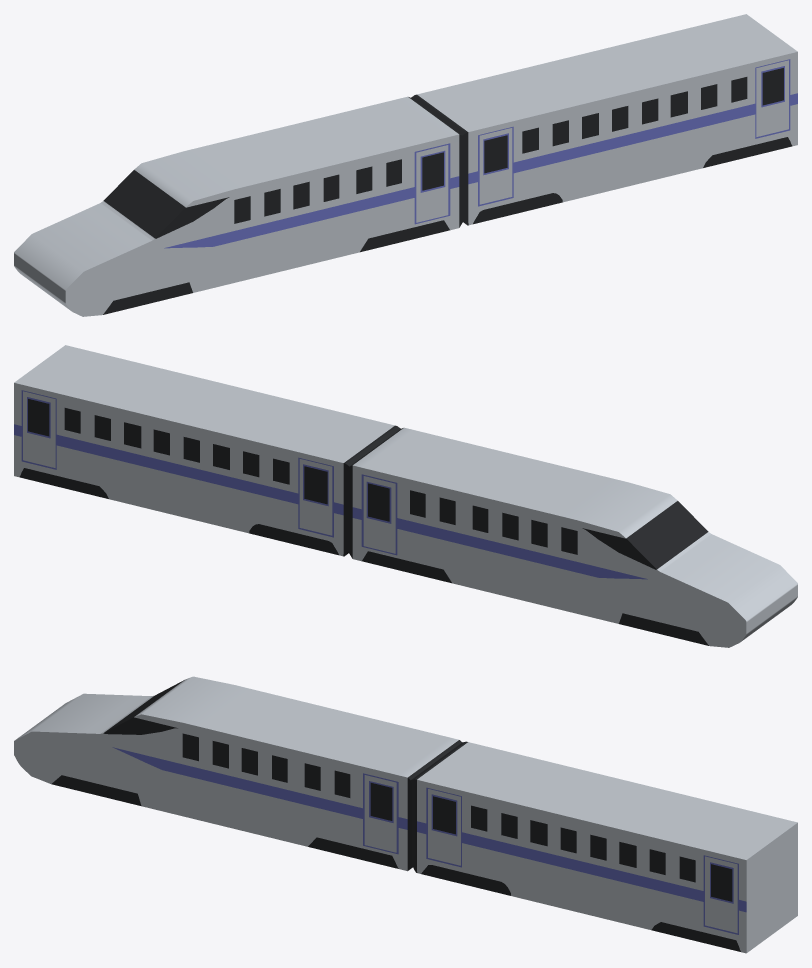
The model's file is White_Train_01.fbx.
3 renders of one model, top to bottom at view 1: azimuth 30°, elevation 25°; view 2: azimuth 150°, elevation 25°; view 3: azimuth 330°, elevation 25°, orthographic.
Visible parts, largest first — view 1: White_Train_01; view 2: White_Train_01; view 3: White_Train_01.
Boxes of the visible parts, <box> form: White_Train_01: <box>14,14,797,316</box>; White_Train_01: <box>14,345,797,647</box>; White_Train_01: <box>14,676,797,953</box>.
Size of the model in its own units: 1232 by 151 by 151.
